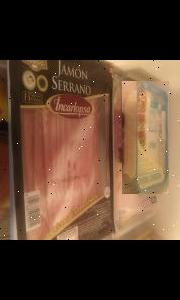Queso: (121, 81, 168, 194)
